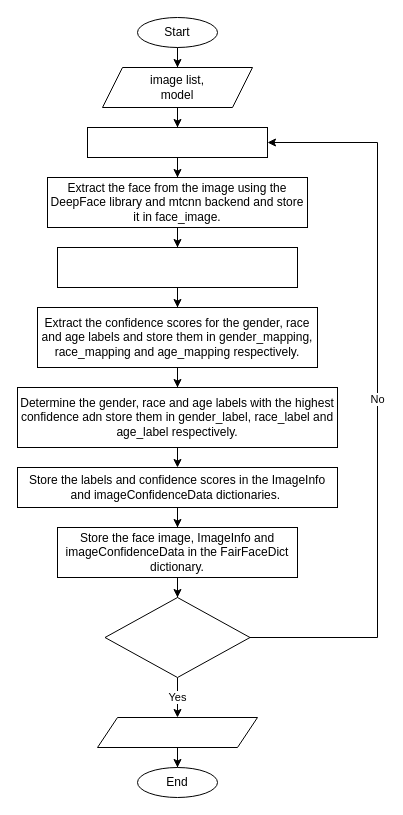
The diagram is 403 pixels wide and 815 high, and some of its shapes have lost their labels. Here are the shapes that lost their labels. From the top down, the centre of each, then its label:
the point at 177,142: image = next image in image list
the point at 177,267: Extract the features from the face_image using the passed model.
the point at 177,637: all images in image list processed
the point at 177,732: Return FairFaceDict
